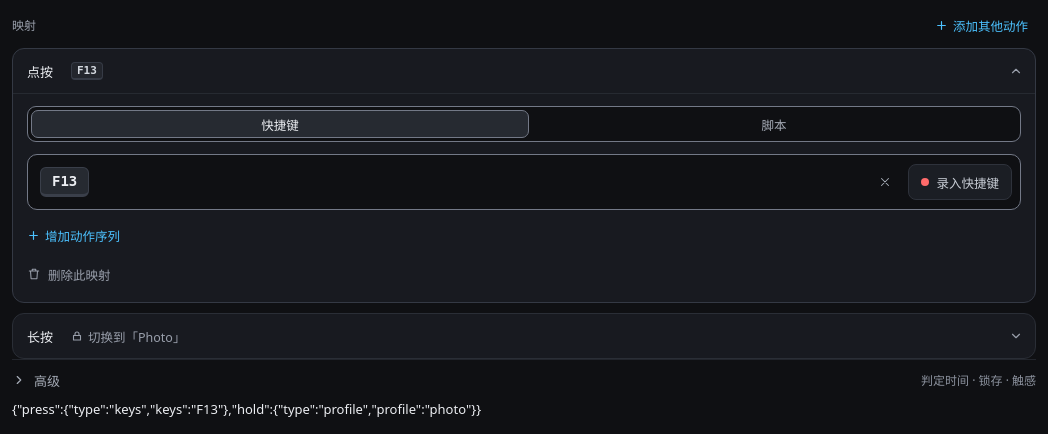
it: offers no type for a profile switch, which stays locked
# Changing the other mapping's type leaves the switch untouched.
Click the radio button labelled "脚本" at point(774, 124), box 531,110 -> 1017,138
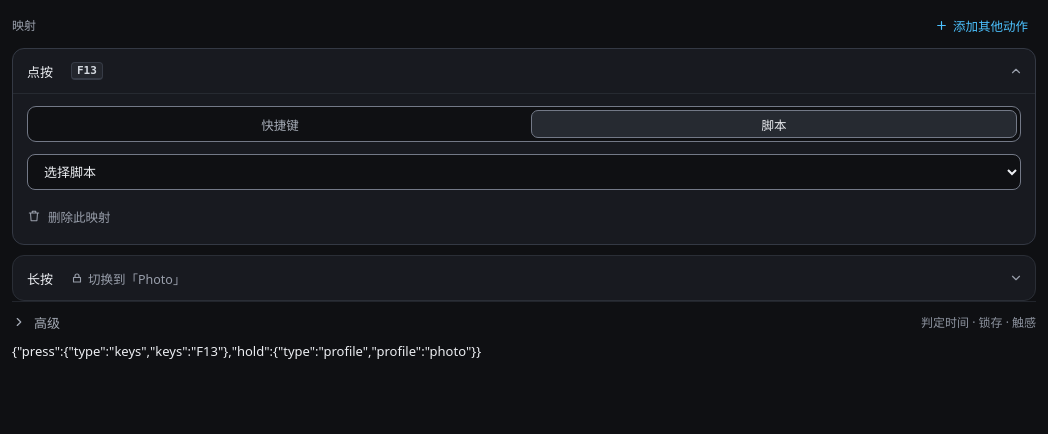
Click the radio button labelled "快捷键" at point(280, 124), box 31,110 -> 529,138
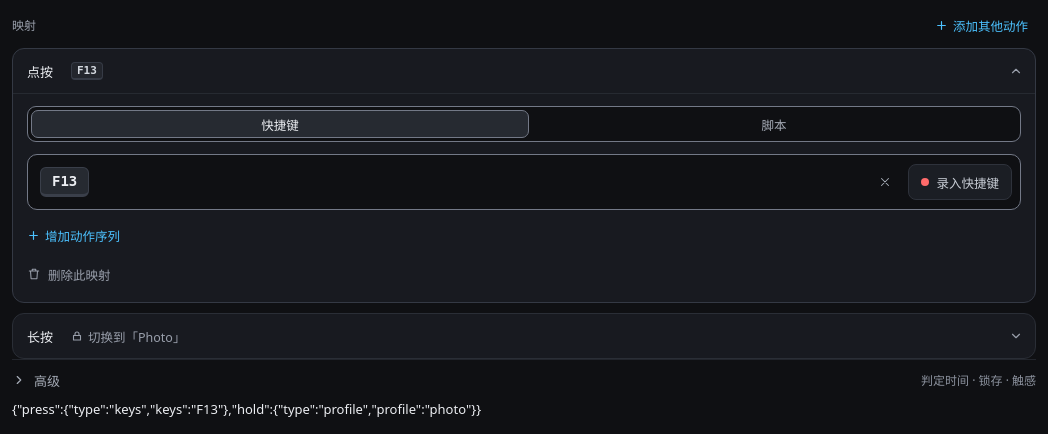
Check: the element with class "drawer-summary-locked" reads "切换到「Photo」", box 88,328 -> 185,346
Click the button "长按 切换到「Photo」" at point(137, 337), box 13,314 -> 1035,358
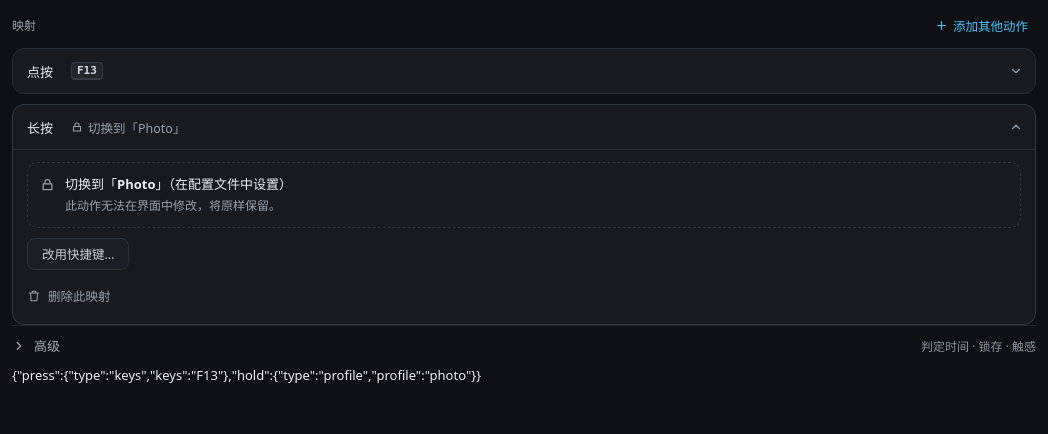
Check: the element with test id "action-type" is gone
Check: the element with test id "locked-action" shows "切换到「Photo」（在配置文件中设置）", box 65,175 -> 292,193
